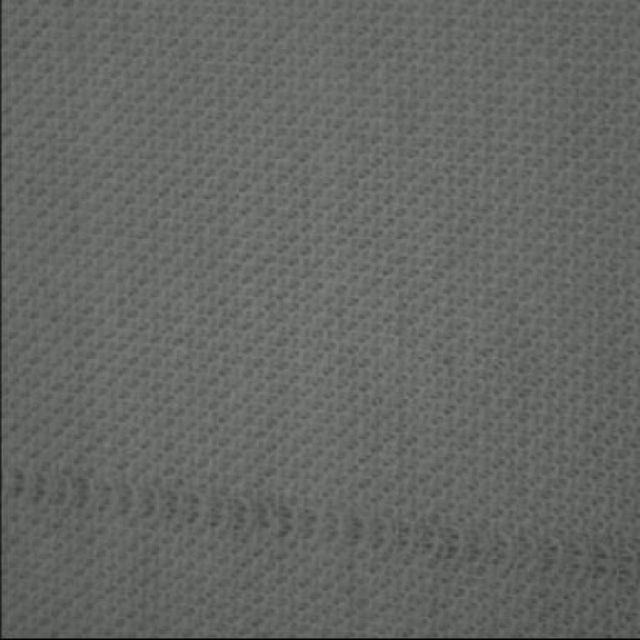Line: (8, 462, 635, 585)
